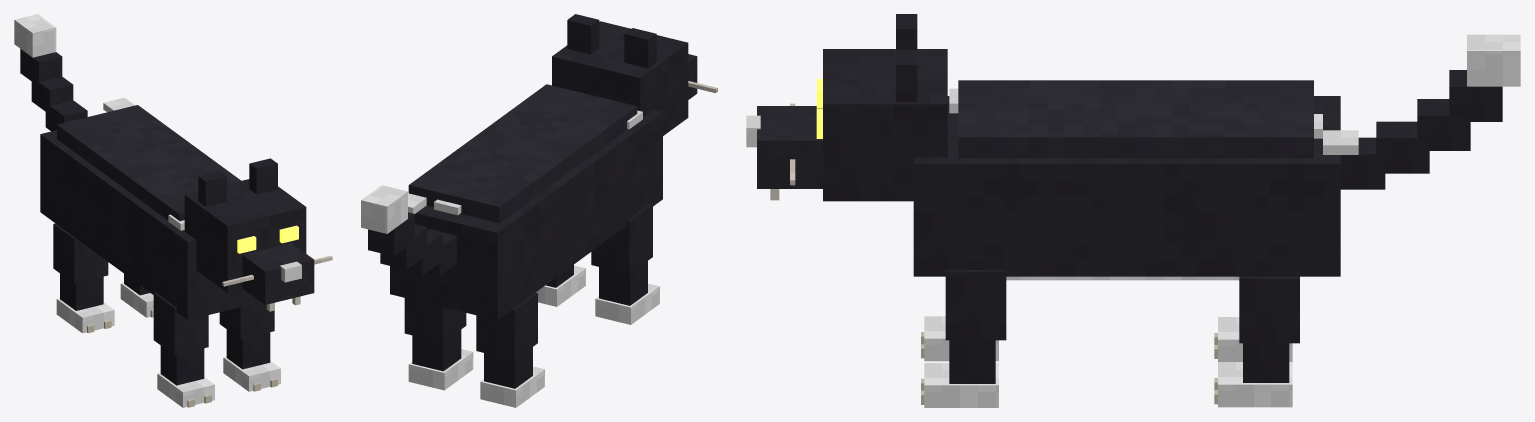
File: panther.glb
The picture shows the model from 3 angles, left to right: view 1: azimuth 30°, elevation 25°; view 2: azimuth 150°, elevation 25°; view 3: azimuth 270°, elevation 25°; orthographic projection. The views are drawn at different scales.
Parts seen in each view (by area): view 1: Torso, Head, ArmR, LegR, ArmL, LegL; view 2: Torso, Head, LegR, ArmR, LegL, ArmL; view 3: Torso, Head, ArmL, LegL, ArmR, LegR.
Part boxes in pixels (x1,y1,x2,y2): Torso: [14, 14, 260, 319]; Head: [184, 158, 332, 311]; ArmR: [153, 292, 214, 407]; LegR: [53, 223, 114, 333]; ArmL: [219, 302, 280, 391]; LegL: [120, 274, 153, 317]; Torso: [361, 84, 662, 320]; Head: [552, 14, 717, 135]; LegR: [476, 292, 544, 407]; ArmR: [591, 203, 659, 324]; LegL: [404, 298, 473, 390]; ArmL: [536, 264, 585, 306]; Torso: [913, 34, 1520, 280]; Head: [746, 14, 947, 201]; ArmL: [921, 270, 1006, 407]; LegL: [1214, 276, 1299, 407]; ArmR: [921, 316, 998, 361]; LegR: [1214, 317, 1292, 361].
Bounding box in the file's own units: 0.51 × 1.03 × 2.18.
Materials: 12 (12 with a texture image).
